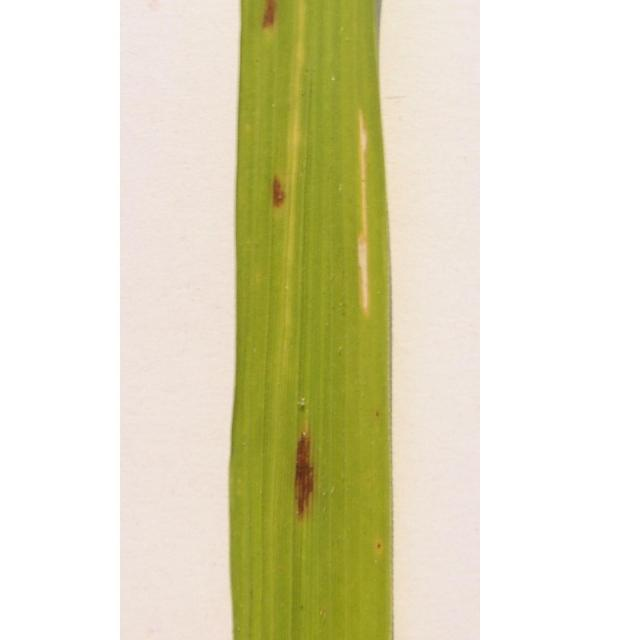Brown spot: (288, 421, 326, 520), (246, 0, 291, 38), (262, 165, 297, 212), (372, 398, 388, 423), (374, 531, 384, 561)
